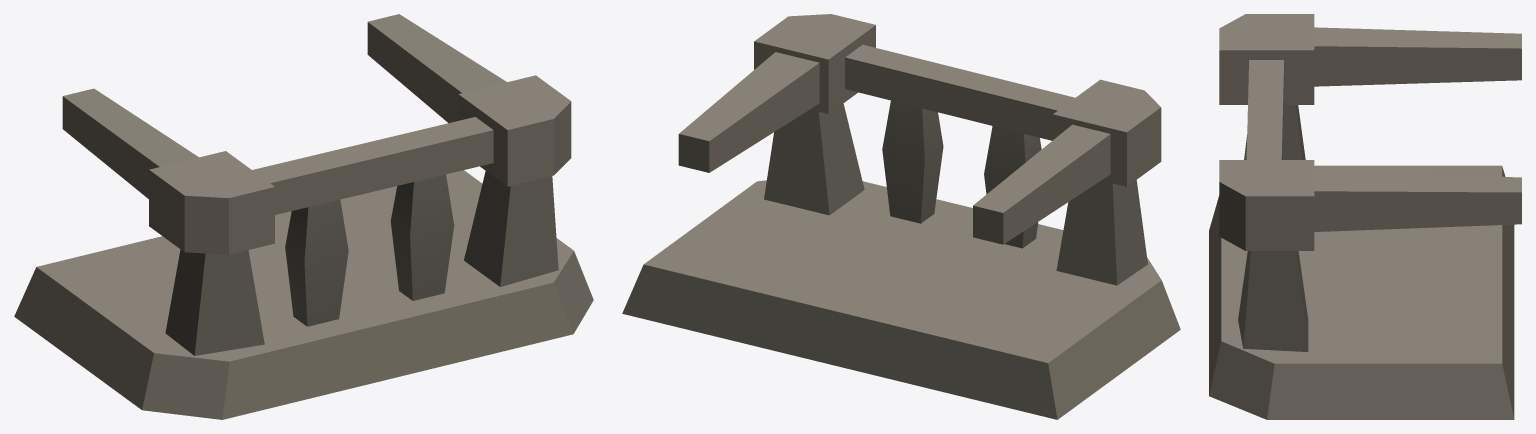
File: Balcony_A2.fbx
3 renders of one model, left to right at view 1: azimuth 30°, elevation 25°; view 2: azimuth 150°, elevation 25°; view 3: azimuth 270°, elevation 25°, orthographic. The views are drawn at different scales.
Parts seen in each view (by area): view 1: Balcony_A2; view 2: Balcony_A2; view 3: Balcony_A2.
Boxes of the visible parts, x1=… form: Balcony_A2: x1=14, y1=14, x2=593, y2=419; Balcony_A2: x1=622, y1=14, x2=1180, y2=419; Balcony_A2: x1=1209, y1=14, x2=1521, y2=419.
Bounding box in the file's own units: 293 × 133 × 182.
